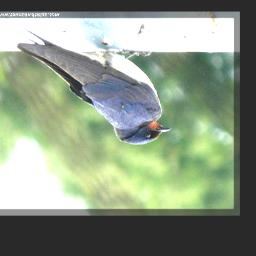Swallow: (0, 13, 172, 145)
